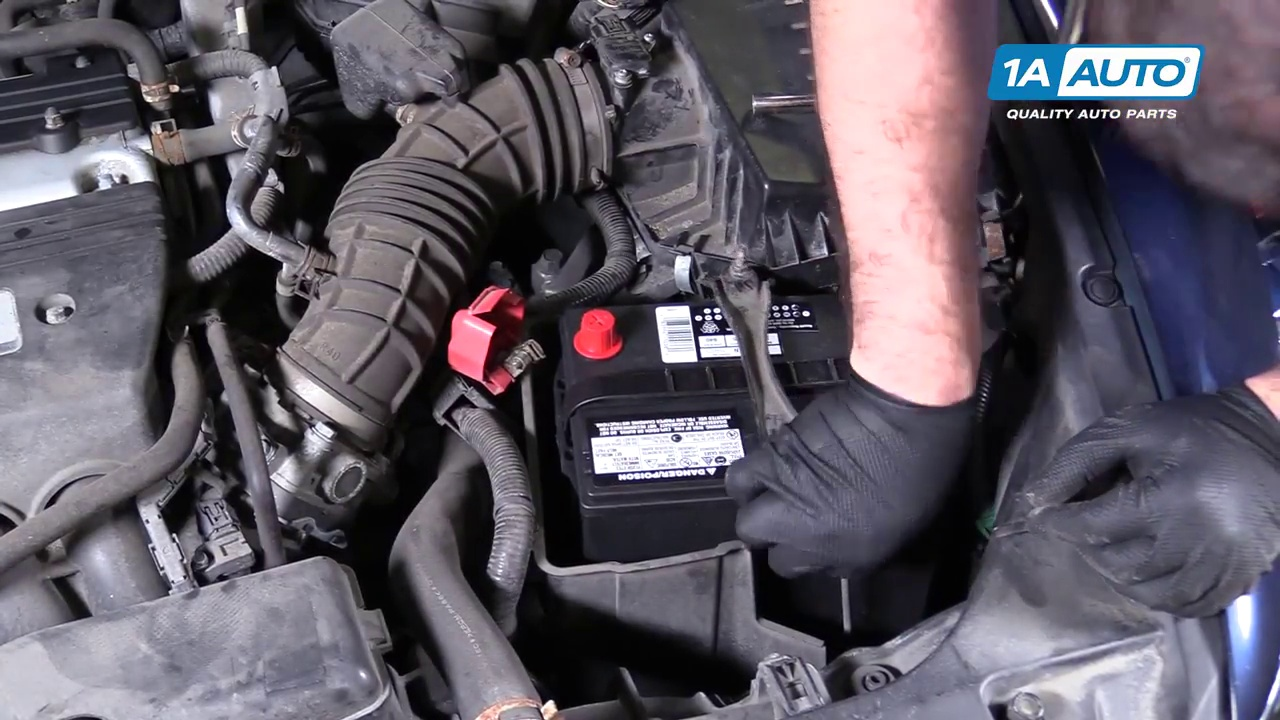battery: (559, 291, 843, 488)
pos_disconnected: (432, 270, 631, 395)
